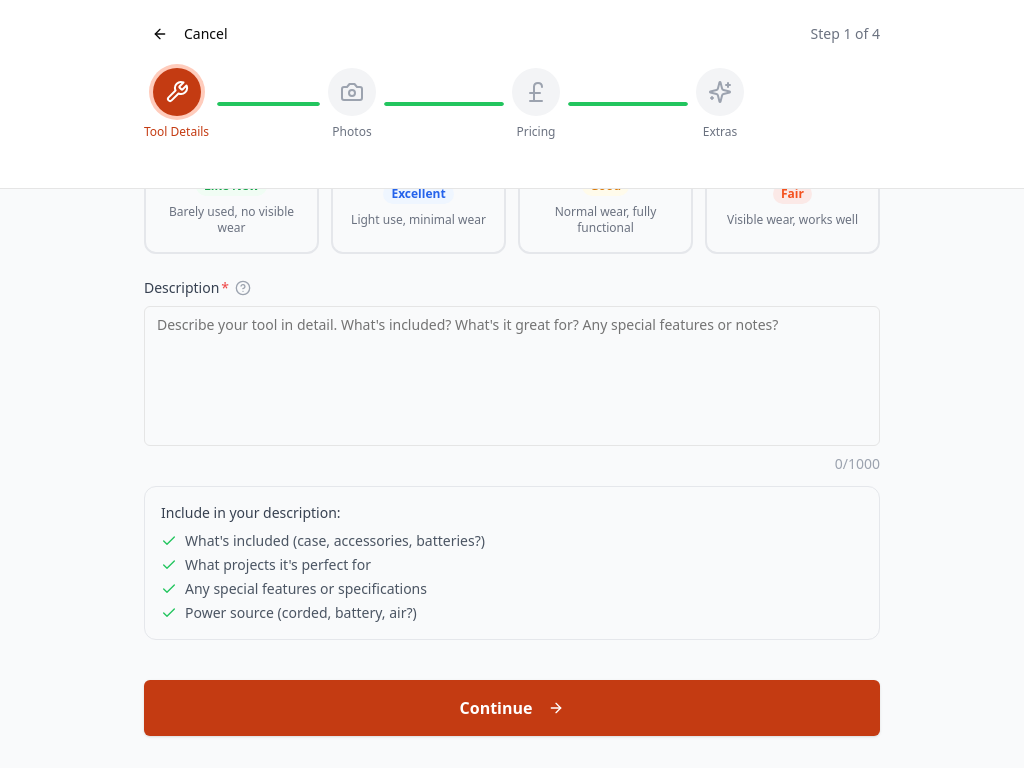
Test: ToolWizard › Real interaction flows › blocks Continue on step 0 and shows validation errors
The width and height of the screenshot is (1024, 768).
(page scrolled)
Click the button "Continue" at (512, 708), box [144, 680, 880, 736]
(page scrolled)
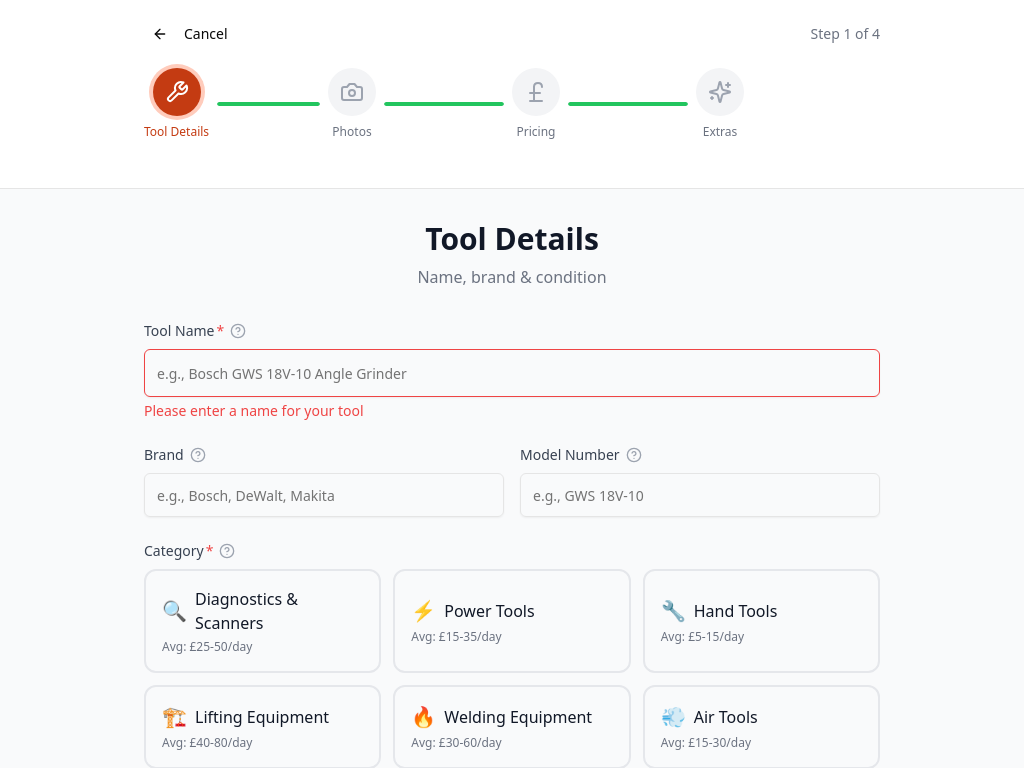
Expected: the heading "Tool Details" is shown, [425, 218, 599, 259]
Expected: the text "Please enter a name for your tool" is shown, [144, 401, 364, 420]
